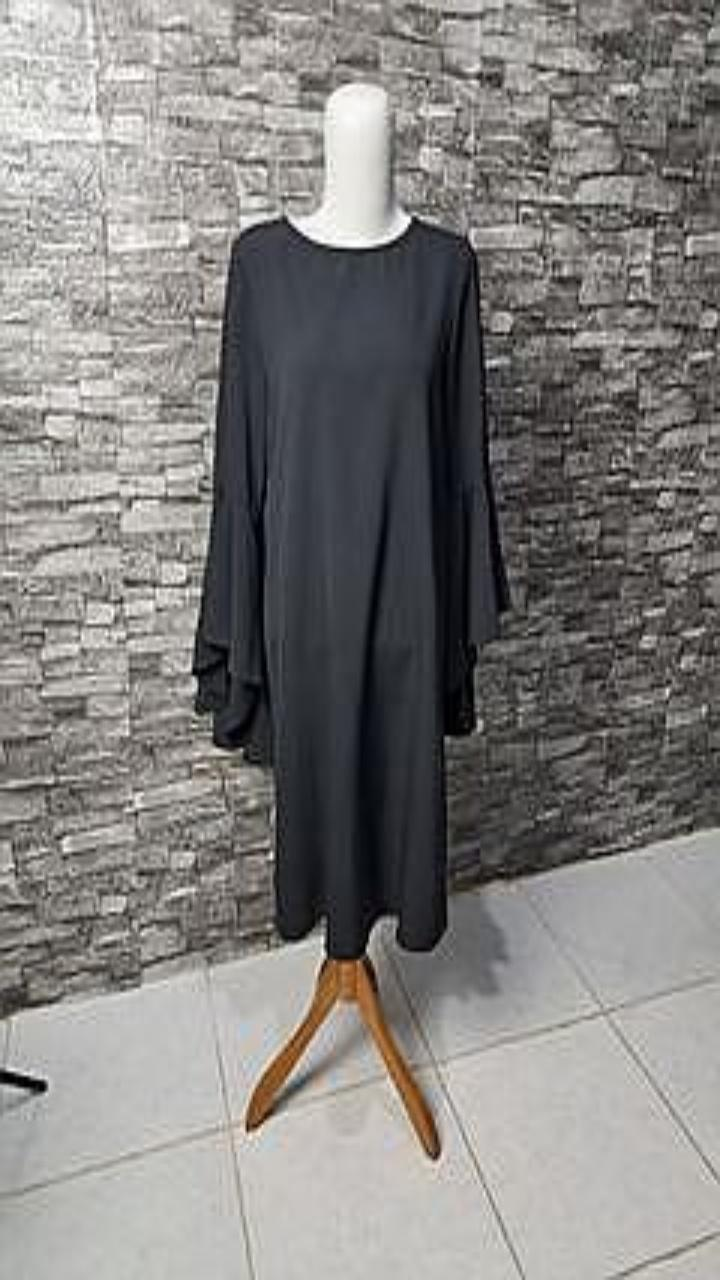Dresses: (192, 216, 509, 958)
